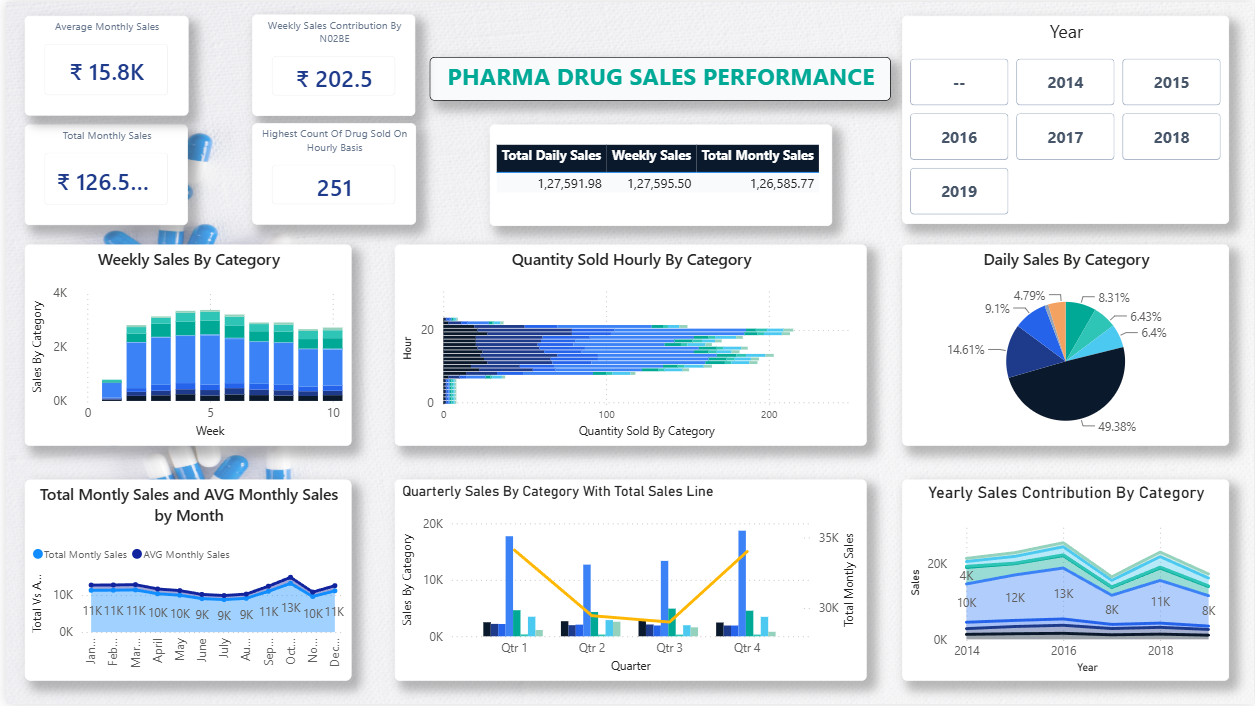

This screenshot's page, from the dashboard's own definition file:
{"tool":"powerbi","page":{"name":"Page 1","canvas":[1280,720],"ordinal":0},"visuals":[{"type":"textbox","title":"PHARMA DRUG SALES PERFORMANCE","box":[434.3,56.7,472.9,44.6],"z":0},{"type":"columnChart","title":"Weekly Sales By Category ","fields":{"Category":["Sales Weekly.Week Num"],"Y":["Sum(Sales Weekly.M01AB)","Sum(Sales Weekly.M01AE)","Sum(Sales Weekly.N02BA)","Sum(Sales Weekly.N02BE)","Sum(Sales Weekly.N05C)","Sum(Sales Weekly.N05B)","Sum(Sales Weekly.R03)","Sum(Sales Weekly.R06)"]},"box":[19.5,249.2,335,206.2],"z":1000},{"type":"stackedAreaChart","fields":{"Category":["Sales Monthly.Date.Variation.Date Hierarchy.Month"],"Y":["Sales Monthly.Total Montly Sales","Sales Monthly.AVG Monthly Sales"]},"box":[19.5,489.5,335.2,206.6],"z":2000},{"type":"barChart","title":"Quantity Sold Hourly By Category","fields":{"Category":["Sales Hourly.Hour"],"Y":["Count(Sales Hourly.M01AB)","Count(Sales Hourly.M01AE)","Count(Sales Hourly.N02BA)","Count(Sales Hourly.N02BE)","Count(Sales Hourly.N05B)","Count(Sales Hourly.N05C)","Count(Sales Hourly.R03)","Count(Sales Hourly.R06)"]},"box":[398.1,249.2,484.1,206.6],"z":3000},{"type":"pieChart","title":"Daily Sales By Category","fields":{"Y":["Sum(Sales Daily.M01AB)","Sum(Sales Daily.M01AE)","Sum(Sales Daily.N02BA)","Sum(Sales Daily.N02BE)","Sum(Sales Daily.N05B)","Sum(Sales Daily.R03)","Sum(Sales Daily.N05C)","Sum(Sales Daily.R06)"]},"box":[919.5,249.2,335.2,206.6],"z":4000},{"type":"stackedAreaChart","title":"Yearly Sales Contribution By Category","fields":{"Category":["Sales Monthly.Date.Variation.Date Hierarchy.Year"],"Y":["Sum(Sales Monthly.M01AE)","Sum(Sales Monthly.M01AB)","Sum(Sales Monthly.N02BA)","Sum(Sales Monthly.N02BE)","Sum(Sales Monthly.N05B)","Sum(Sales Monthly.N05C)","Sum(Sales Monthly.R03)","Sum(Sales Monthly.R06)"]},"box":[919.5,489.5,335.2,206.6],"z":5000},{"type":"lineClusteredColumnComboChart","title":"Quarterly Sales By Category With Total Sales Line","fields":{"Category":["Sales Monthly.Date.Variation.Date Hierarchy.Quarter"],"Y":["Sum(Sales Monthly.M01AB)","Sum(Sales Monthly.M01AE)","Sum(Sales Monthly.N02BA)","Sum(Sales Monthly.N02BE)","Sum(Sales Monthly.N05B)","Sum(Sales Monthly.N05C)","Sum(Sales Monthly.R03)","Sum(Sales Monthly.R06)"],"Y2":["Sales Monthly.Total Montly Sales"]},"box":[398.1,489.5,484.1,206.6],"z":6000},{"type":"cardVisual","title":"Weekly Sales Contribution By N02BE","fields":{"Data":["Sales Weekly.Weekly Sales Contribution By N02BE"]},"box":[252.1,13.3,167.6,103.7],"z":7000},{"type":"cardVisual","title":"Highest Count Of Drug Sold On Hourly Basis","fields":{"Data":["Count(Sales Hourly.N02BE)"]},"box":[252.1,124.3,167.7,103.8],"z":8000},{"type":"cardVisual","title":"Total Monthly Sales","fields":{"Data":["Sales Monthly.Total Montly Sales"]},"box":[19.5,125,167.6,102.9],"z":9000},{"type":"cardVisual","title":"Average Monthly Sales","fields":{"Data":["Sales Monthly.AVG Monthly Sales"]},"box":[19.3,14.5,167.7,102.5],"z":10000},{"type":"tableEx","fields":{"Values":["Sales Daily.Total Daily Sales","Sales Weekly.Weekly Sales","Sales Monthly.Total Montly Sales"]},"box":[495.8,125.5,351.1,103.8],"z":11000},{"type":"advancedSlicerVisual","fields":{"Values":["Sales Monthly.Date.Variation.Date Hierarchy.Year"]},"box":[919.3,14.5,335.4,213.5],"z":12000}]}

Visuals, with their boxes in screenshot pixels (x1, y1, x2, y2), scaled from the page's 1280x720 canvas onto the 1255x706 screenshot:
"PHARMA DRUG SALES PERFORMANCE" textbox: region(426, 56, 889, 99)
"Weekly Sales By Category " columnChart: region(19, 244, 348, 447)
stackedAreaChart - Sales Monthly.Date.Variation.Date Hierarchy.Month x Sales Monthly.Total Montly Sales: region(19, 480, 348, 683)
"Quantity Sold Hourly By Category" barChart: region(390, 244, 865, 447)
"Daily Sales By Category" pieChart: region(902, 244, 1230, 447)
"Yearly Sales Contribution By Category" stackedAreaChart: region(902, 480, 1230, 683)
"Quarterly Sales By Category With Total Sales Line" lineClusteredColumnComboChart: region(390, 480, 865, 683)
"Weekly Sales Contribution By N02BE" cardVisual: region(247, 13, 412, 115)
"Highest Count Of Drug Sold On Hourly Basis" cardVisual: region(247, 122, 412, 224)
"Total Monthly Sales" cardVisual: region(19, 123, 183, 223)
"Average Monthly Sales" cardVisual: region(19, 14, 183, 115)
tableEx - Sales Daily.Total Daily Sales x Sales Weekly.Weekly Sales: region(486, 123, 830, 225)
advancedSlicerVisual - Sales Monthly.Date.Variation.Date Hierarchy.Year: region(901, 14, 1230, 224)
